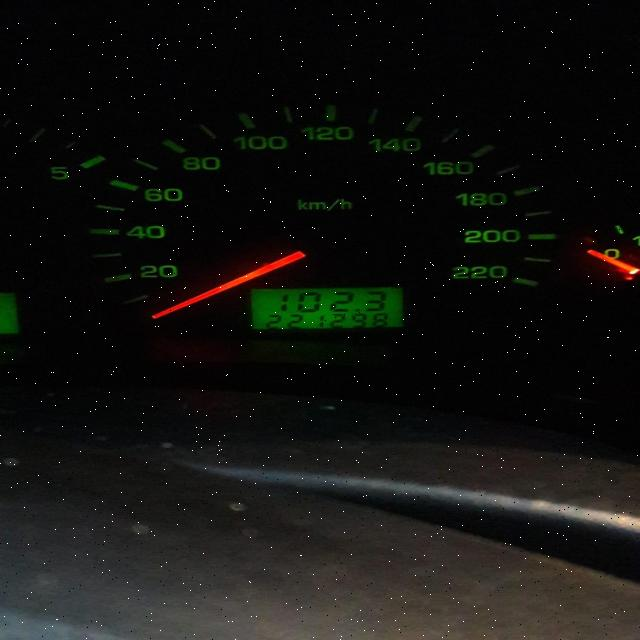odometer: (247, 286, 406, 330)
